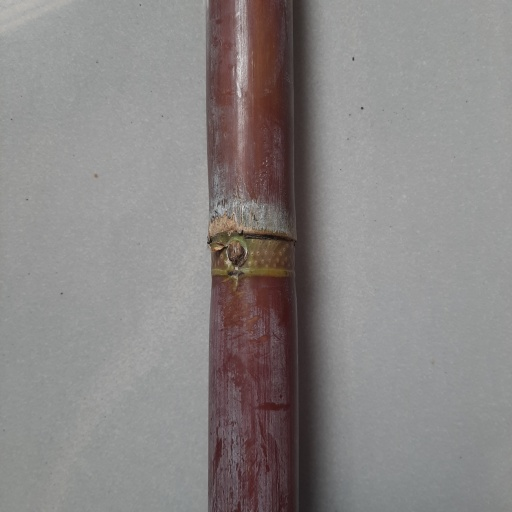Bud: (225, 241, 246, 267)
